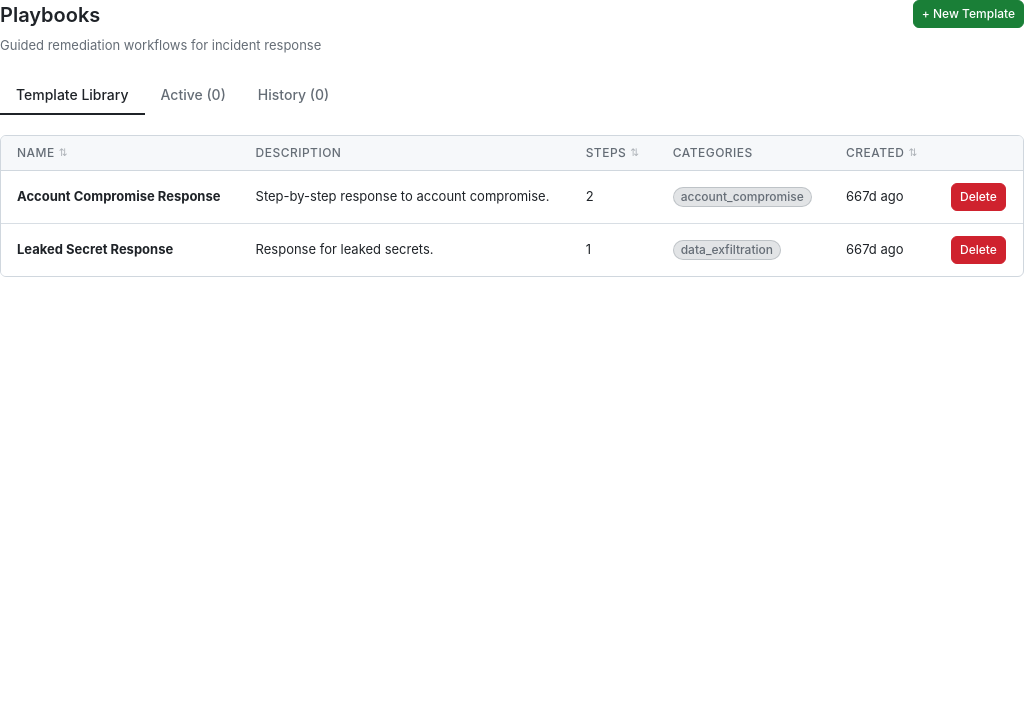
Test: PlaybooksPage › opens editor when a template row is clicked
Expected: the text "Account Compromise Response" is shown, [17,188,220,204]
Click the text "Account Compromise Response" at (512, 196), box [1,170,1023,223]
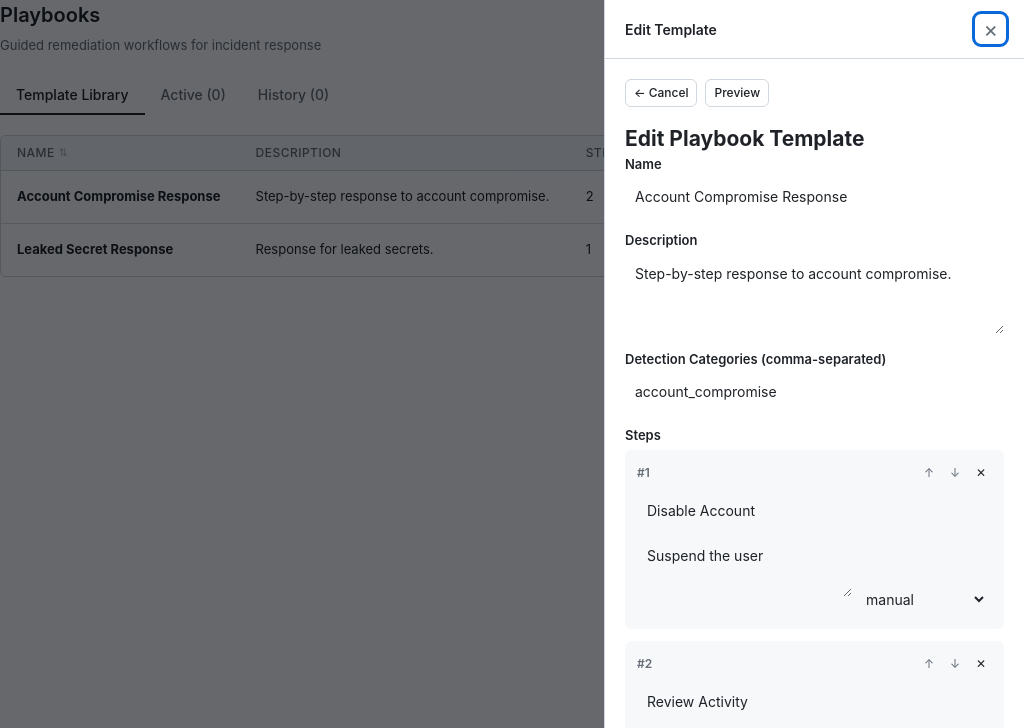
Now the heading "Edit Playbook Template" is shown, box [625,126,864,151]
